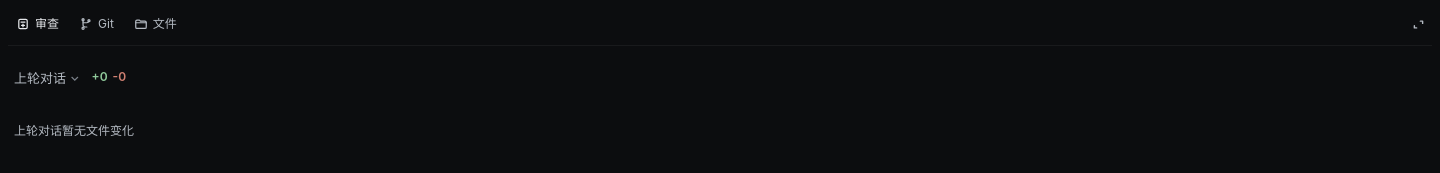
Test: ReviewPanel scoped change sets › preserves open and active review tabs when expanding remounts the panel
Click the button with aria-label "所有文件": (155, 24) [126,9,185,39]
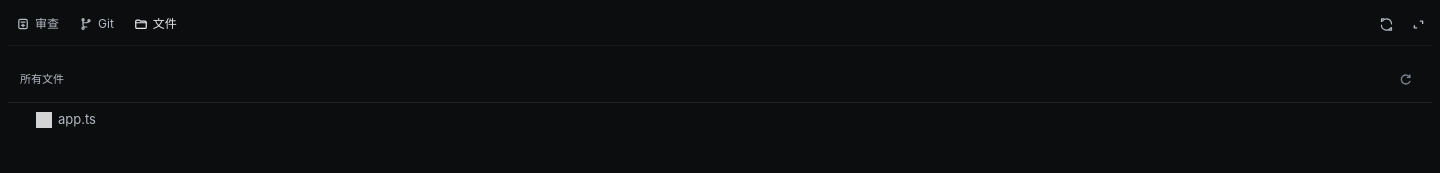
Click the text "app.ts": (77, 120) [58,110,96,130]
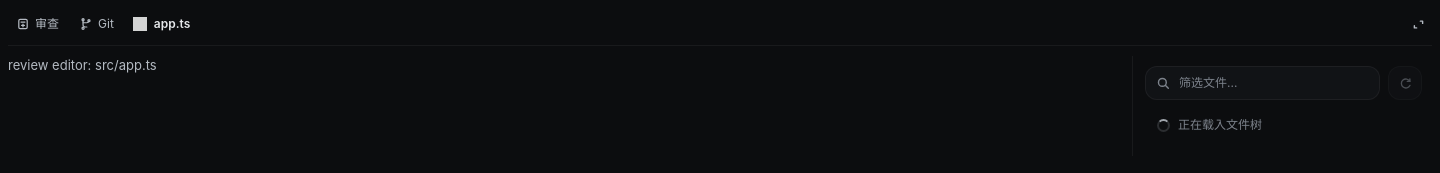
expect the text "review editor: src/app.ts" is shown: met, box [8,57,157,73]
Click the button named "展开审查面板": (1418, 24) [1404,10,1432,38]
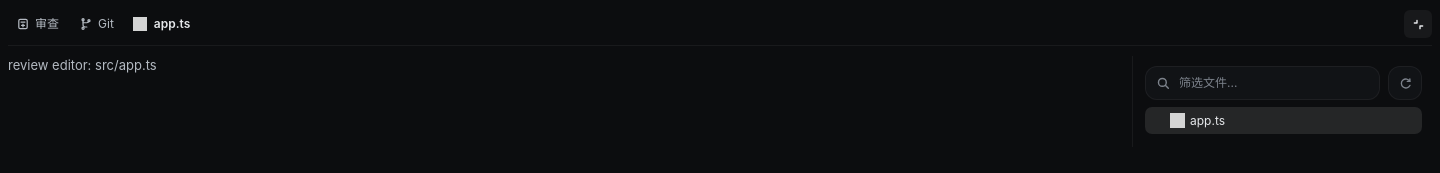
expect the text "review editor: src/app.ts" is shown: met, box [8,57,157,73]
expect the button named "还原审查面板" is shown: met, box [1404,10,1432,38]
